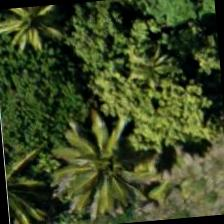Kelapa_Sawit: (36, 124, 134, 222), (44, 125, 142, 223), (0, 3, 72, 60)
